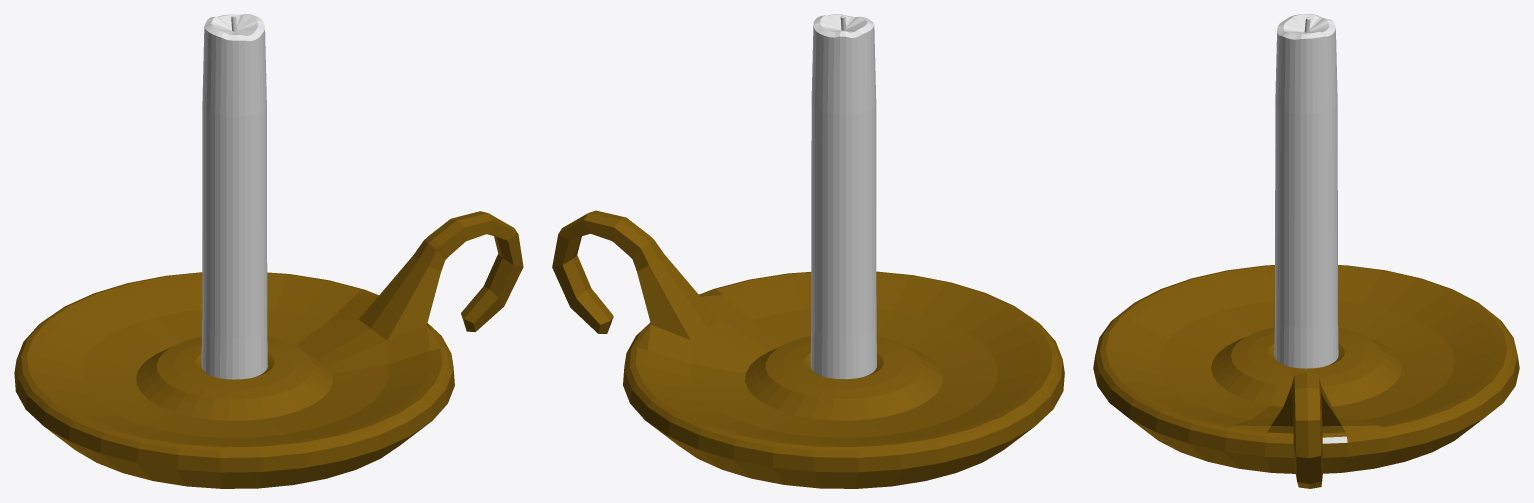
The model's file is Candle.fbx.
The picture shows the model from 3 angles, left to right: view 1: azimuth 30°, elevation 25°; view 2: azimuth 150°, elevation 25°; view 3: azimuth 270°, elevation 25°; orthographic projection. The views are drawn at different scales.
Parts seen in each view (by area): view 1: Cylinder.000; view 2: Cylinder.000; view 3: Cylinder.000.
Part boxes in pixels (box(x1,y1,x2,y2)): Cylinder.000: box(14, 14, 523, 488); Cylinder.000: box(552, 14, 1064, 488); Cylinder.000: box(1093, 14, 1519, 488).
Size of the model in its own units: 11.1 by 9.05 by 8.89.
